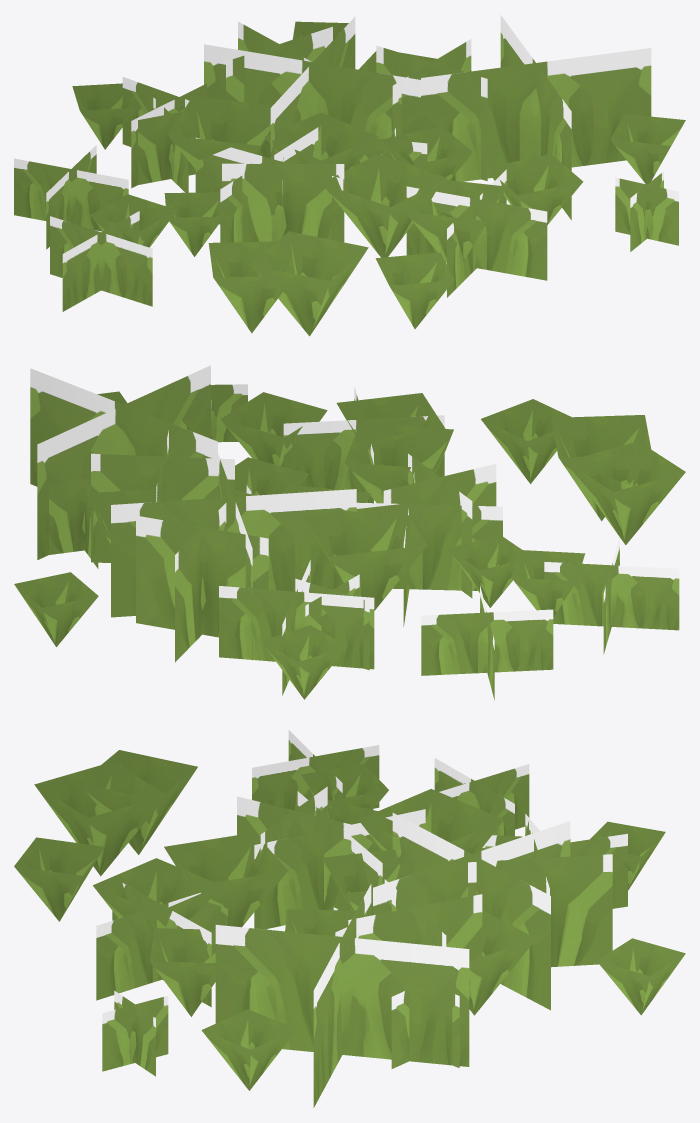
Rendered from SM_Env_Creeper_Clump_01.glb.
3 renders of one model, top to bottom at view 1: azimuth 30°, elevation 25°; view 2: azimuth 150°, elevation 25°; view 3: azimuth 270°, elevation 25°, orthographic. The views are drawn at different scales.
Visible parts, largest first — view 1: SM_Env_Creeper_Clump_01; view 2: SM_Env_Creeper_Clump_01; view 3: SM_Env_Creeper_Clump_01.
Boxes of the visible parts, <box> form: SM_Env_Creeper_Clump_01: <box>14,15,685,336</box>; SM_Env_Creeper_Clump_01: <box>14,365,685,700</box>; SM_Env_Creeper_Clump_01: <box>14,730,685,1107</box>.
Bounding box in the file's own units: 1.33 × 0.2286 × 1.18.
1 material, 1 textured.
